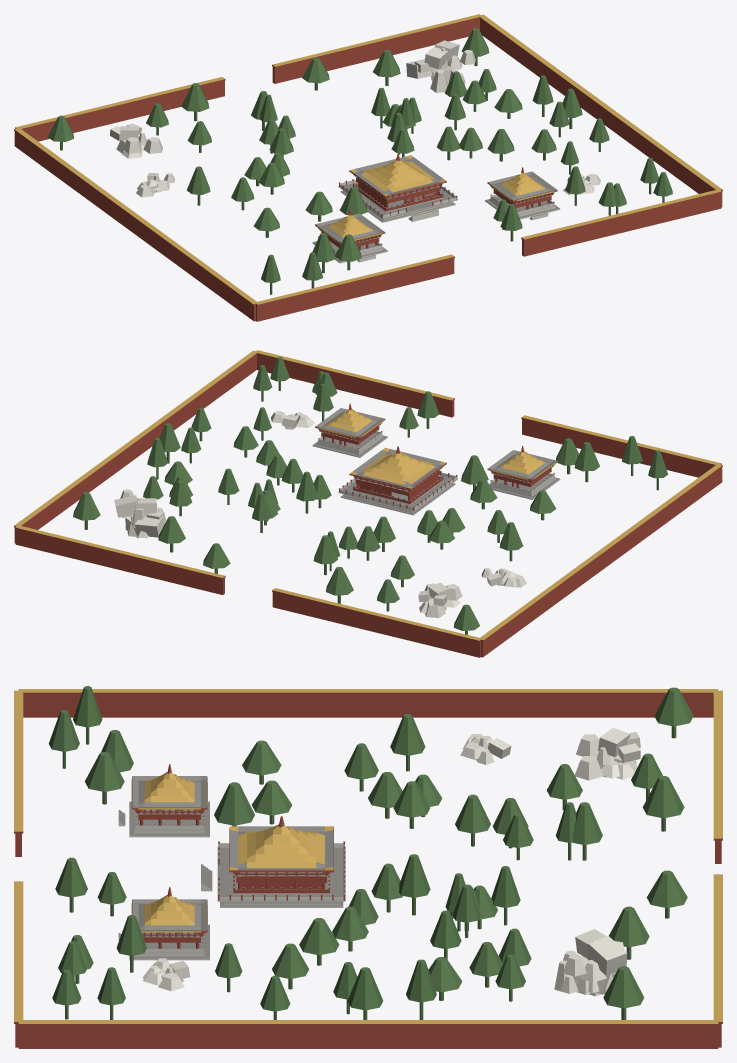
Rendered from r05_yuhuayuan.glb.
3 renders of one model, top to bottom at view 1: azimuth 30°, elevation 25°; view 2: azimuth 150°, elevation 25°; view 3: azimuth 270°, elevation 25°, orthographic. The views are drawn at different scales.
Parts seen in each view (by area): view 1: r05_yuhuayuan; view 2: r05_yuhuayuan; view 3: r05_yuhuayuan.
Part boxes in pixels (<box>): r05_yuhuayuan: <box>14,14,722,321</box>; r05_yuhuayuan: <box>14,350,722,657</box>; r05_yuhuayuan: <box>14,686,722,1048</box>.
Bounding box in the file's own units: 142 × 12.99 × 127.
